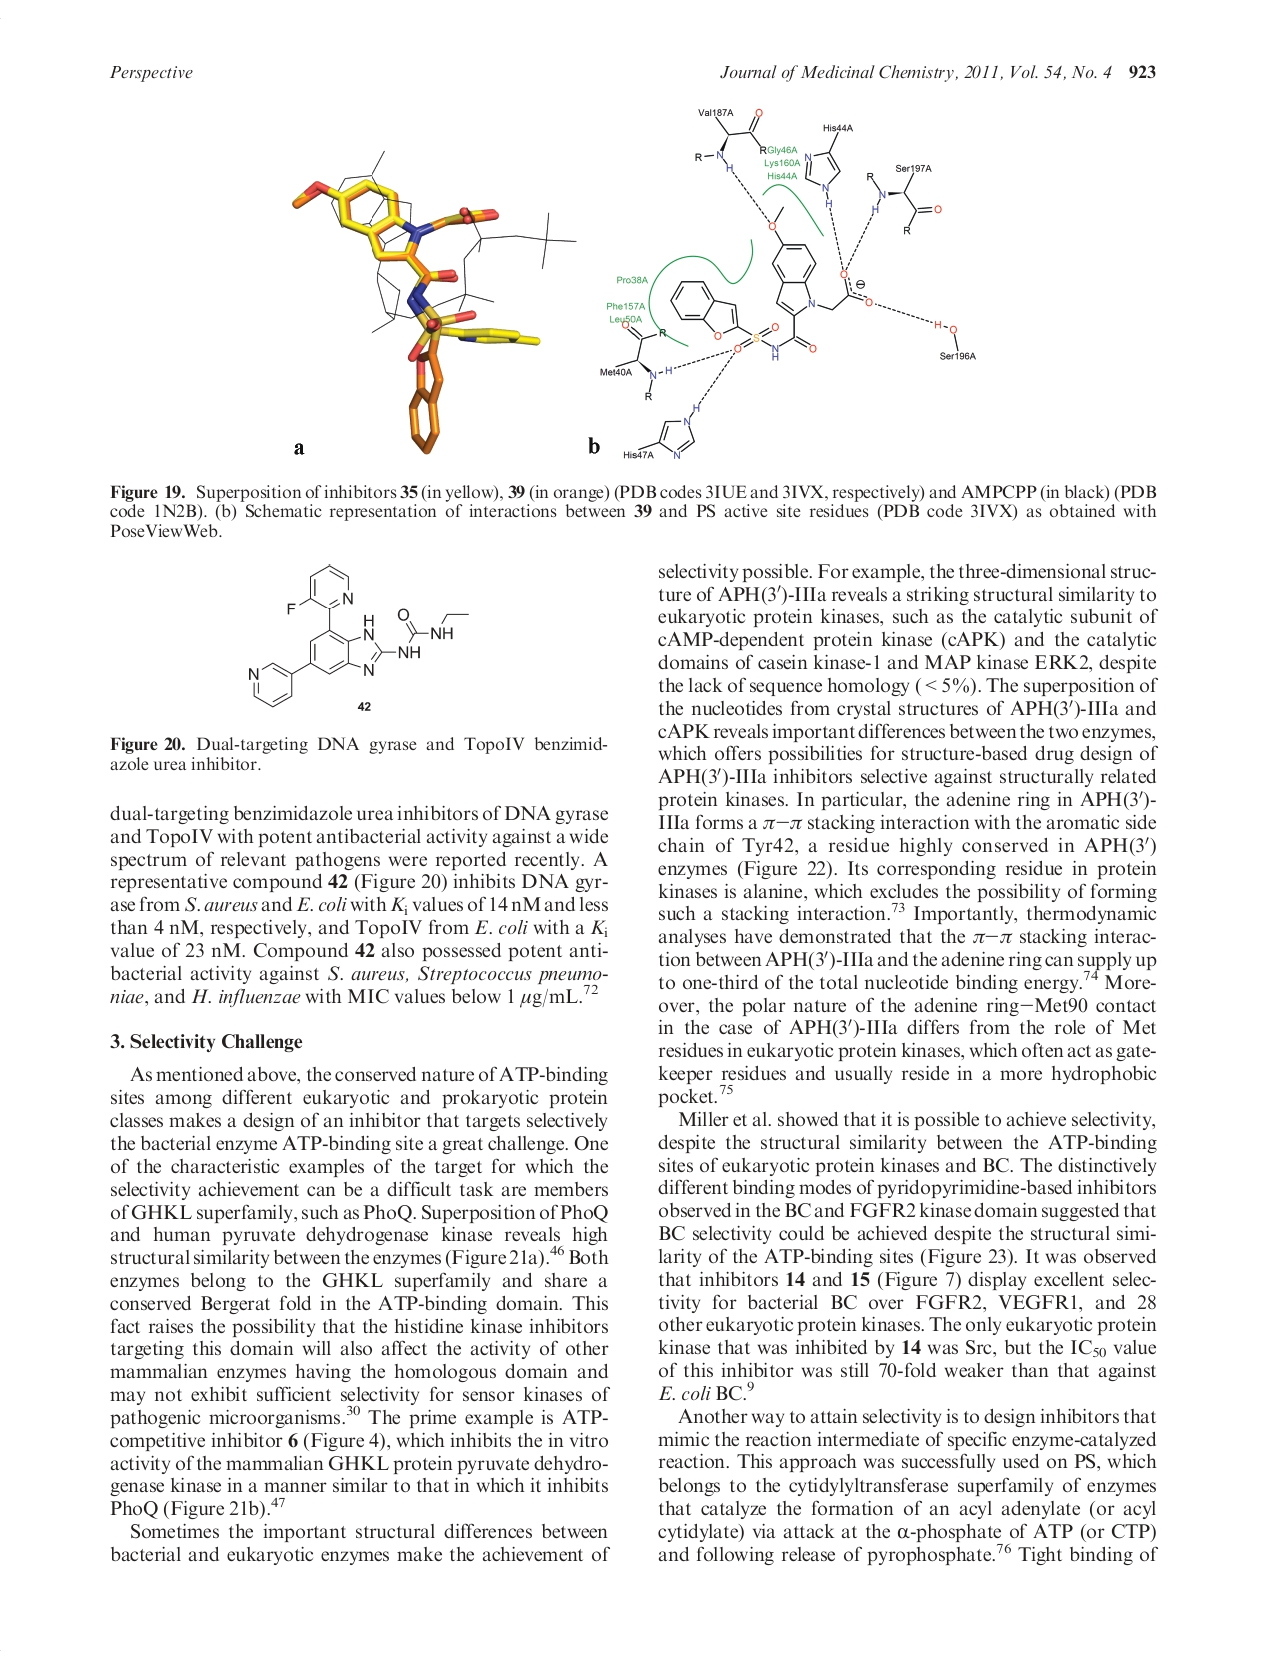exist_molecular: (243, 561, 473, 710), (668, 205, 872, 364), (598, 318, 676, 400), (863, 160, 947, 235), (692, 104, 769, 174), (799, 118, 854, 207), (622, 404, 705, 463), (930, 313, 979, 368)
